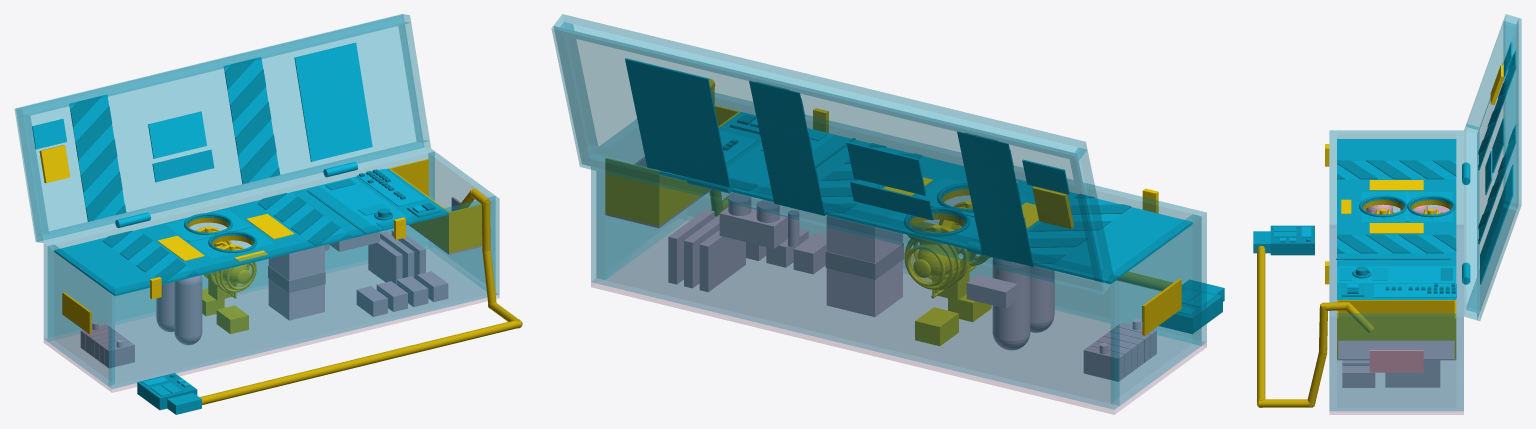
Rendered from c204_A_ouvert_interne.glb.
3 renders of one model, left to right at view 1: azimuth 30°, elevation 25°; view 2: azimuth 150°, elevation 25°; view 3: azimuth 270°, elevation 25°, orthographic. The views are drawn at different scales.
Visible parts, largest first — view 1: A-002 [DOC] Corps — paroi avant, A-012 [DOC] Couvercle — dessus, A-001 [HYP] Corps — fond, A-003 [DOC] Corps — paroi arrière, A-029 [DOC] Plaque d'instructions de commande (7), A-004 [DOC] Corps — paroi d'extrémité gauche, A-013 [DOC] Couvercle — rebord avant, A-014 [DOC] Couvercle — rebord arrière, A-005 [DOC] Corps — paroi d'extrémité droite, A-104 [DÉD] Cordon spiralé — tronçon 1, A-161 [HYP] Générateur d'électrons (6) — boîtier, A-017 [DOC] Couvercle — bande de danger n°1 (fond) (+47 smaller); view 2: A-012 [DOC] Couvercle — dessus, A-003 [DOC] Corps — paroi arrière, A-001 [HYP] Corps — fond, A-002 [DOC] Corps — paroi avant, A-013 [DOC] Couvercle — rebord avant, A-004 [DOC] Corps — paroi d'extrémité gauche, A-029 [DOC] Plaque d'instructions de commande (7), A-014 [DOC] Couvercle — rebord arrière, A-017 [DOC] Couvercle — bande de danger n°1 (fond), A-023 [DOC] Couvercle — bande de danger n°2 (fond), A-161 [HYP] Générateur d'électrons (6) — boîtier, A-005 [DOC] Corps — paroi d'extrémité droite (+36 smaller); view 3: A-005 [DOC] Corps — paroi d'extrémité droite, A-001 [HYP] Corps — fond, A-012 [DOC] Couvercle — dessus, A-093 [DÉD] Rangement 9 — cloison gauche, A-013 [DOC] Couvercle — rebord avant, A-014 [DOC] Couvercle — rebord arrière, A-002 [DOC] Corps — paroi avant, A-003 [DOC] Corps — paroi arrière, A-092 [HYP] Rangement 9 — fond, A-016 [DOC] Couvercle — rebord droit, A-015 [DOC] Couvercle — rebord gauche, A-061 [DOC] Platine — zone 4 (support de l'écran de secours) (+38 smaller).
Part boxes in pixels (left/top/right/bottom): A-002 [DOC] Corps — paroi avant: left=108, top=196, right=499, bottom=388; A-012 [DOC] Couvercle — dessus: left=15, top=14, right=423, bottom=241; A-001 [HYP] Corps — fond: left=44, top=249, right=499, bottom=392; A-003 [DOC] Corps — paroi arrière: left=44, top=149, right=434, bottom=341; A-029 [DOC] Plaque d'instructions de commande (7): left=294, top=42, right=372, bottom=161; A-004 [DOC] Corps — paroi d'extrémité gauche: left=48, top=244, right=114, bottom=385; A-013 [DOC] Couvercle — rebord avant: left=16, top=14, right=410, bottom=116; A-014 [DOC] Couvercle — rebord arrière: left=36, top=140, right=430, bottom=242; A-005 [DOC] Corps — paroi d'extrémité droite: left=428, top=152, right=495, bottom=290; A-104 [DÉD] Cordon spiralé — tronçon 1: left=199, top=319, right=521, bottom=404; A-161 [HYP] Générateur d'électrons (6) — boîtier: left=268, top=245, right=324, bottom=320; A-017 [DOC] Couvercle — bande de danger n°1 (fond): left=69, top=94, right=124, bottom=221; A-012 [DOC] Couvercle — dessus: left=551, top=26, right=1105, bottom=294; A-003 [DOC] Corps — paroi arrière: left=591, top=167, right=1119, bottom=409; A-001 [HYP] Corps — fond: left=591, top=221, right=1206, bottom=414; A-002 [DOC] Corps — paroi avant: left=687, top=92, right=1206, bottom=345; A-013 [DOC] Couvercle — rebord avant: left=554, top=14, right=1087, bottom=160; A-004 [DOC] Corps — paroi d'extrémité gauche: left=1111, top=214, right=1201, bottom=405; A-029 [DOC] Plaque d'instructions de commande (7): left=625, top=58, right=730, bottom=187; A-014 [DOC] Couvercle — rebord arrière: left=581, top=147, right=1113, bottom=291; A-017 [DOC] Couvercle — bande de danger n°1 (fond): left=957, top=131, right=1033, bottom=266; A-023 [DOC] Couvercle — bande de danger n°2 (fond): left=749, top=81, right=824, bottom=215; A-161 [HYP] Générateur d'électrons (6) — boîtier: left=826, top=215, right=902, bottom=316; A-005 [DOC] Corps — paroi d'extrémité droite: left=596, top=119, right=682, bottom=279; A-005 [DOC] Corps — paroi d'extrémité droite: left=1337, top=313, right=1455, bottom=410; A-001 [HYP] Corps — fond: left=1329, top=225, right=1463, bottom=414; A-012 [DOC] Couvercle — dessus: left=1477, top=18, right=1521, bottom=320; A-093 [DÉD] Rangement 9 — cloison gauche: left=1337, top=300, right=1456, bottom=340; A-013 [DOC] Couvercle — rebord avant: left=1503, top=14, right=1518, bottom=210; A-014 [DOC] Couvercle — rebord arrière: left=1464, top=124, right=1479, bottom=319; A-002 [DOC] Corps — paroi avant: left=1329, top=130, right=1336, bottom=410; A-003 [DOC] Corps — paroi arrière: left=1456, top=130, right=1463, bottom=410; A-092 [HYP] Rangement 9 — fond: left=1337, top=340, right=1456, bottom=360; A-016 [DOC] Couvercle — rebord droit: left=1466, top=204, right=1515, bottom=313; A-015 [DOC] Couvercle — rebord gauche: left=1466, top=21, right=1515, bottom=130; A-061 [DOC] Platine — zone 4 (support de l'écran de secours): left=1337, top=253, right=1456, bottom=266.
Bounding box in the file's own units: 0.858 × 0.4563 × 0.5175.
